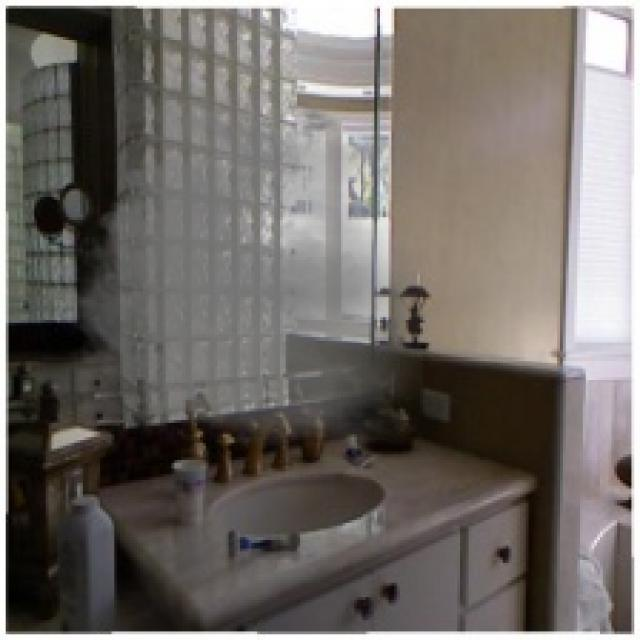smoke: (54, 89, 423, 448)
